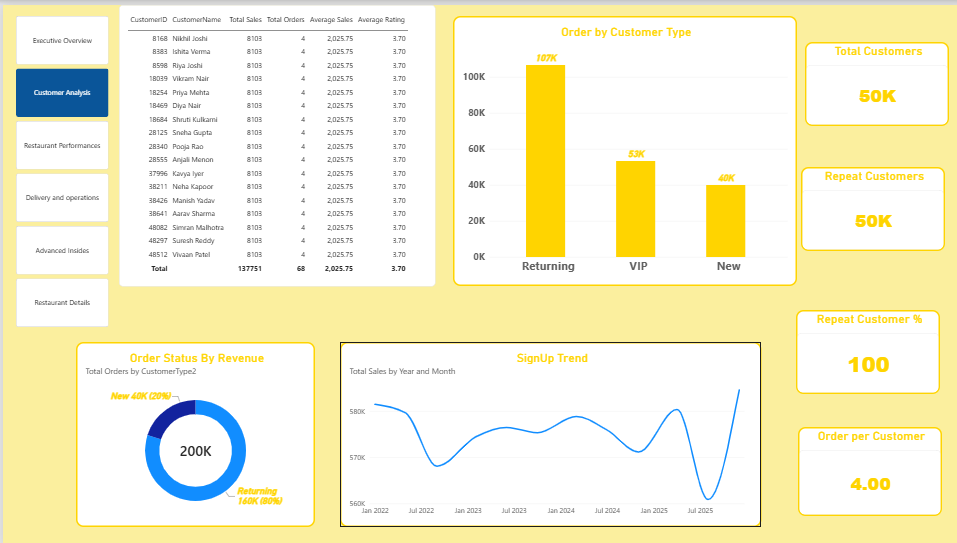

The page's visual inventory and layout, read from the dashboard file:
{"tool":"powerbi","page":{"name":"Customer Analysis","canvas":[1920,1080],"ordinal":1},"visuals":[{"type":"cardVisual","title":"Total Customers","fields":{"Data":["Orders.Total Customers"]},"box":[1603.3,73.3,288.3,168.3],"z":0},{"type":"cardVisual","title":"Order per Customer","fields":{"Data":["Orders.Order_Per_Customer"]},"box":[1590,843.3,288.3,178.3],"z":1000},{"type":"cardVisual","title":"Repeat Customer %","fields":{"Data":["Orders.Repeat Customer %"]},"box":[1586.7,610,288.3,168.3],"z":2000},{"type":"cardVisual","title":"Repeat Customers","fields":{"Data":["Orders.Repeat Customer"]},"box":[1596.7,323.3,288,168],"z":3000},{"type":"donutChart","title":"Order Status By Revenue","fields":{"Category":["Customers.CustomerType2"],"Y":["Orders.Total Orders"]},"box":[146.7,673.3,478.3,370],"z":4000},{"type":"clusteredColumnChart","title":"Order by Customer Type","fields":{"Category":["Customers.CustomerType"],"Y":["Orders.Total Orders"]},"box":[900,22.5,687.5,540],"z":5000},{"type":"lineChart","title":"SignUp Trend","fields":{"Category":["Customers.SignupDate.Variation.Date Hierarchy.Year","Customers.SignupDate.Variation.Date Hierarchy.Month"],"Y":["Orders.Total Sales"]},"box":[673.3,673.3,843.3,370],"z":6000},{"type":"tableEx","fields":{"Values":["Customers.CustomerID","Customers.CustomerName","Orders.Total Sales","Orders.Total Orders","Orders.Average Sales","Orders.Average Rating"]},"box":[232.5,0,633.3,563.3],"z":8000},{"type":"pageNavigator","box":[25,22.5,185,625],"z":8001}]}

Visuals, with their boxes in screenshot pixels (x1, y1, x2, y2), scaled from the page's 1920x1080 canvas onto the 957x543 screenshot:
"Total Customers" cardVisual: region(799, 37, 943, 121)
"Order per Customer" cardVisual: region(793, 424, 936, 514)
"Repeat Customer %" cardVisual: region(791, 307, 935, 391)
"Repeat Customers" cardVisual: region(796, 163, 939, 247)
"Order Status By Revenue" donutChart: region(73, 339, 312, 525)
"Order by Customer Type" clusteredColumnChart: region(449, 11, 791, 283)
"SignUp Trend" lineChart: region(336, 339, 756, 525)
tableEx - Customers.CustomerID x Customers.CustomerName: region(116, 0, 432, 283)
pageNavigator: region(12, 11, 105, 326)
